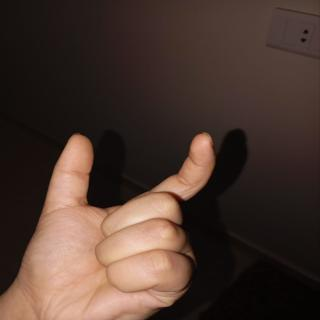NOON: (14, 122, 241, 320)
